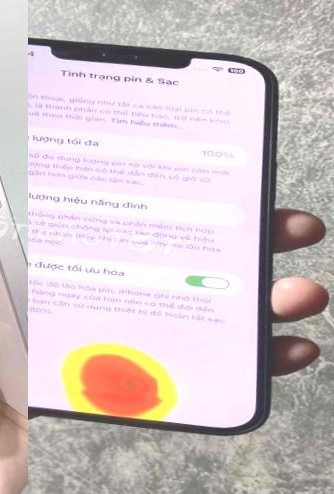screen_defect: (39, 328, 203, 437)
